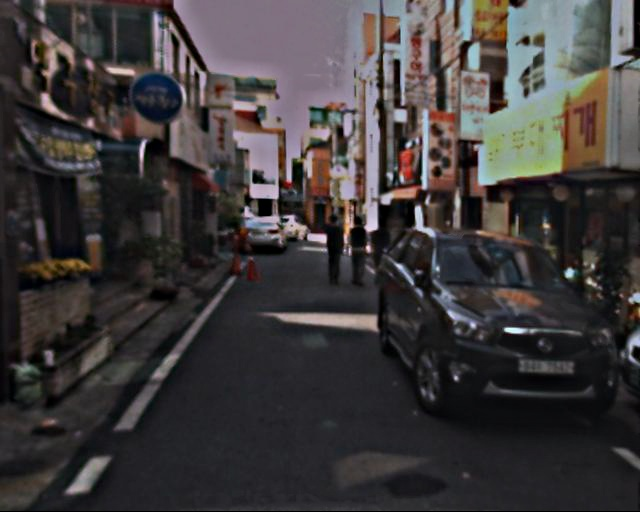person: (341, 211, 372, 287), (317, 214, 347, 287), (365, 215, 395, 288)
